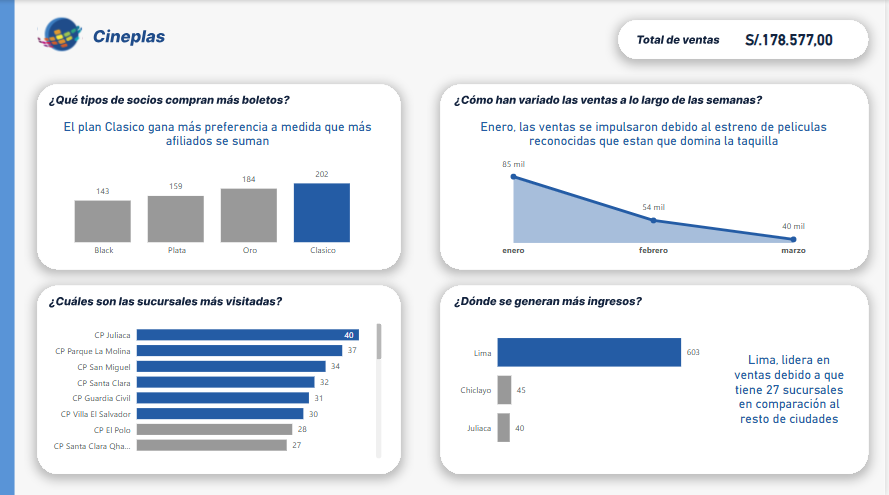

The dashboard page shown, as its layout file describes it:
{"tool":"powerbi","page":{"name":"Página 1","canvas":[1280,720],"ordinal":0},"visuals":[{"type":"lineChart","title":"¿Cómo han variado las ventas a lo largo de los meses?","fields":{"Category":["Dim_Calendario.MonthName"],"Y":["Sum(Fact_Ventas.TotalPagado)"]},"box":[657.8,209.6,576.9,170.6],"z":0},{"type":"barChart","fields":{"Category":["Dim_Sucursales.Ciudad"],"Y":["CountNonNull(Fact_Ventas.IDClientes)"]},"box":[657.8,454,365.8,214],"z":1000},{"type":"columnChart","fields":{"Category":["Dim_Cliente.TipoSocio"],"Y":["CountNonNull(Fact_Ventas.IDClientes)"]},"box":[62.2,224.1,495.9,156.1],"z":2000},{"type":"barChart","fields":{"Category":["Dim_Sucursales.NombreSucursal"],"Y":["CountNonNull(Fact_Ventas.IDSucursal)"]},"box":[62.2,454,495.9,214],"z":3000},{"type":"card","fields":{"Values":["Medidas.Medida"]},"box":[657.8,161.9,576.9,62.2],"z":4000},{"type":"card","fields":{"Values":["Medidas.TotalVentas"]},"box":[1065.5,34.7,153.3,44.8],"z":5000},{"type":"card","fields":{"Values":["Medidas.TiposDeSocioPorVentas"]},"box":[62.2,161.9,507.5,62.2],"z":6000},{"type":"card","fields":{"Values":["Medidas.SucursalPorVentas"]},"box":[1049.6,454,185.1,214],"z":7000}]}

Visuals, with their boxes in screenshot pixels (x1, y1, x2, y2), scaled from the page's 1280x720 canvas onto the 889x495 screenshot:
"¿Cómo han variado las ventas a lo largo de los meses?" lineChart: [457,144,858,261]
barChart - Dim_Sucursales.Ciudad x CountNonNull(Fact_Ventas.IDClientes): [457,312,711,459]
columnChart - Dim_Cliente.TipoSocio x CountNonNull(Fact_Ventas.IDClientes): [43,154,388,261]
barChart - Dim_Sucursales.NombreSucursal x CountNonNull(Fact_Ventas.IDSucursal): [43,312,388,459]
card - Medidas.Medida: [457,111,858,154]
card - Medidas.TotalVentas: [740,24,846,55]
card - Medidas.TiposDeSocioPorVentas: [43,111,396,154]
card - Medidas.SucursalPorVentas: [729,312,858,459]
